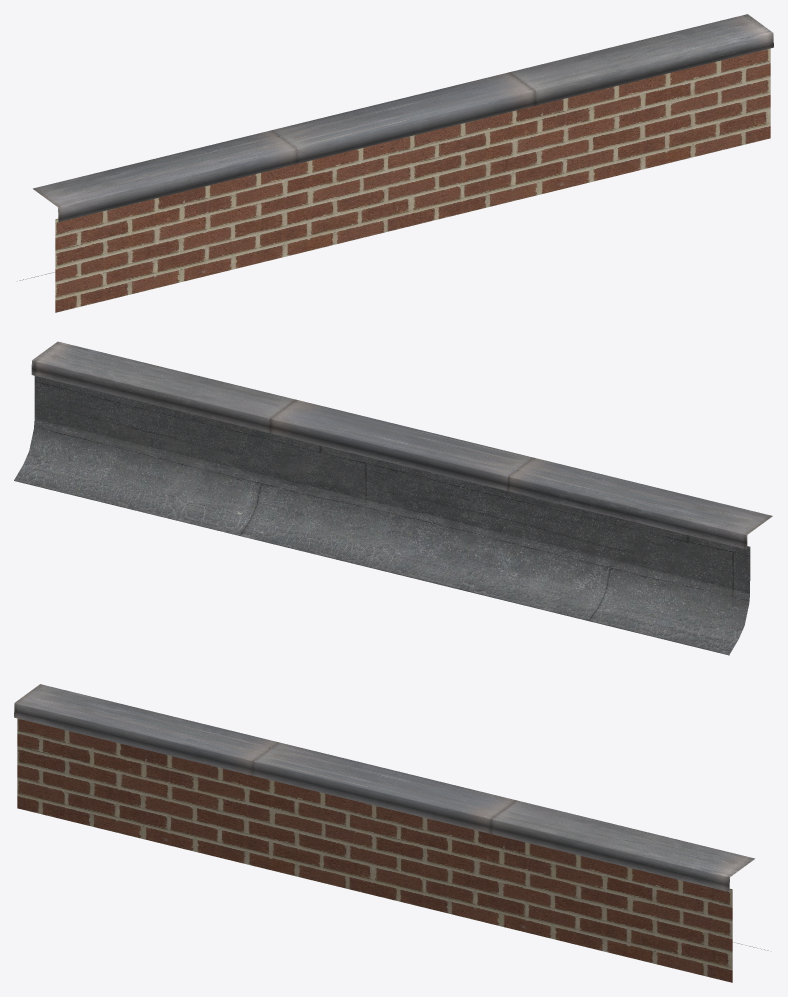
Rendered from SM_Roof_Edge_Flashing_Quart_01.glb.
3 renders of one model, top to bottom at view 1: azimuth 30°, elevation 25°; view 2: azimuth 150°, elevation 25°; view 3: azimuth 330°, elevation 25°, orthographic.
Visible parts, largest first — view 1: SM_Roof_Edge_Flashing_Quart_01; view 2: SM_Roof_Edge_Flashing_Quart_01; view 3: SM_Roof_Edge_Flashing_Quart_01.
Part boxes in pixels (x1=…): SM_Roof_Edge_Flashing_Quart_01: x1=19, y1=14, x2=773, y2=312; SM_Roof_Edge_Flashing_Quart_01: x1=14, y1=341, x2=772, y2=655; SM_Roof_Edge_Flashing_Quart_01: x1=14, y1=684, x2=768, y2=982.
Bounding box in the file's own units: 4 × 0.5741 × 0.4308.
Materials: 3 (3 with a texture image).
